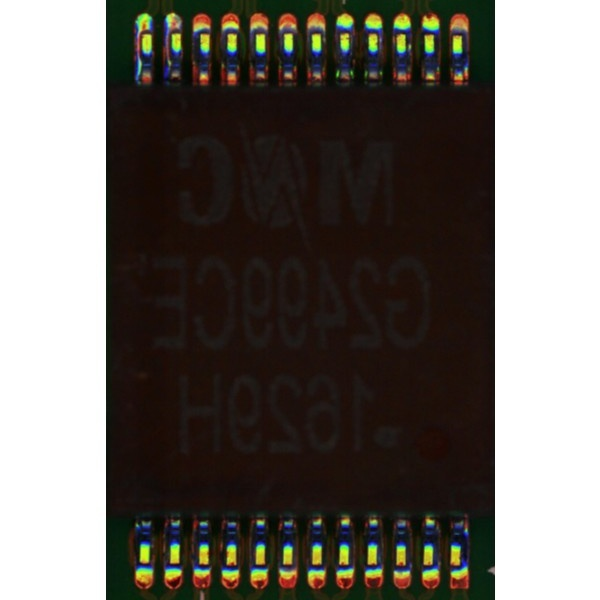Bad_podu: (171, 22, 180, 39), (141, 22, 149, 40)
Bad_qiaojiao: (136, 32, 142, 86), (165, 32, 171, 79)
